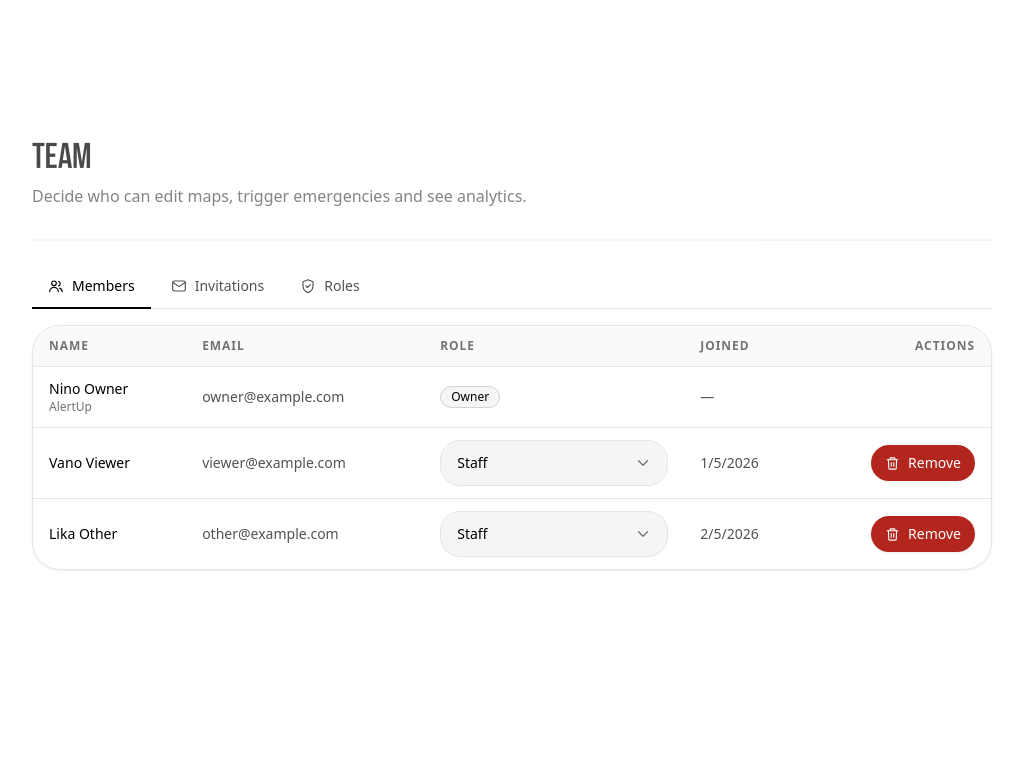
Test: Members page — custom roles › shows a friendly message instead of the raw anti-escalation 403
The width and height of the screenshot is (1024, 768).
Click the tab "Roles": (330, 287) top-left (284, 265), bottom-right (376, 309)
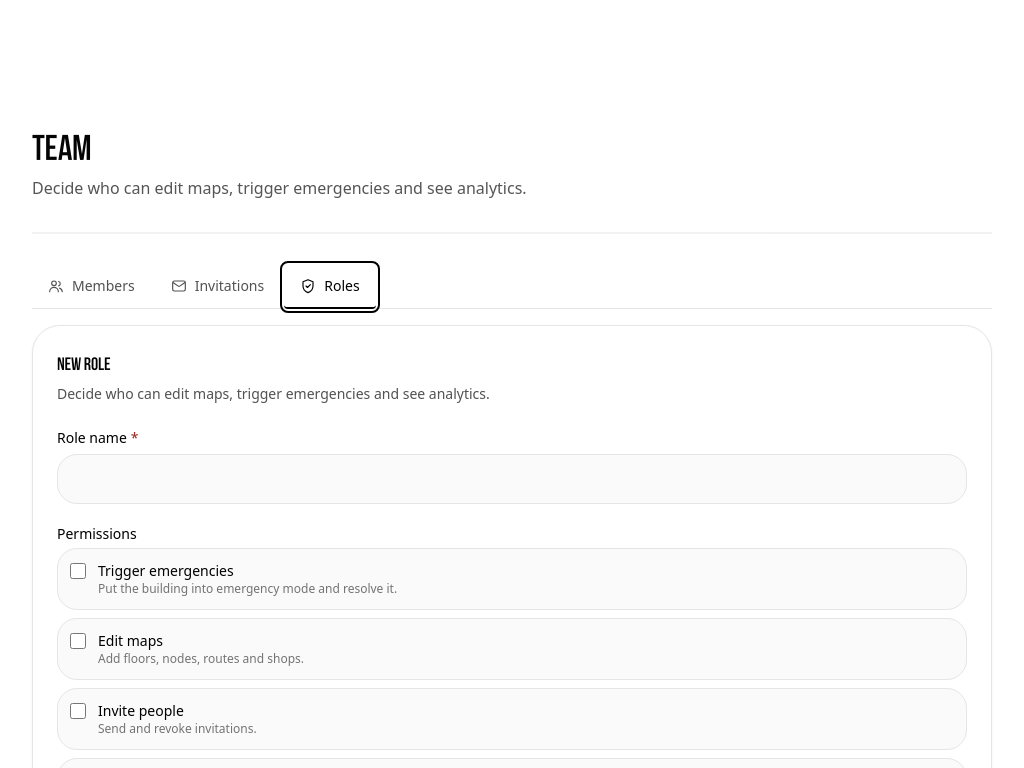
In the field labelled "Role name": (512, 479) top-left (57, 454), bottom-right (967, 504), type "Deputy"
(page scrolled)
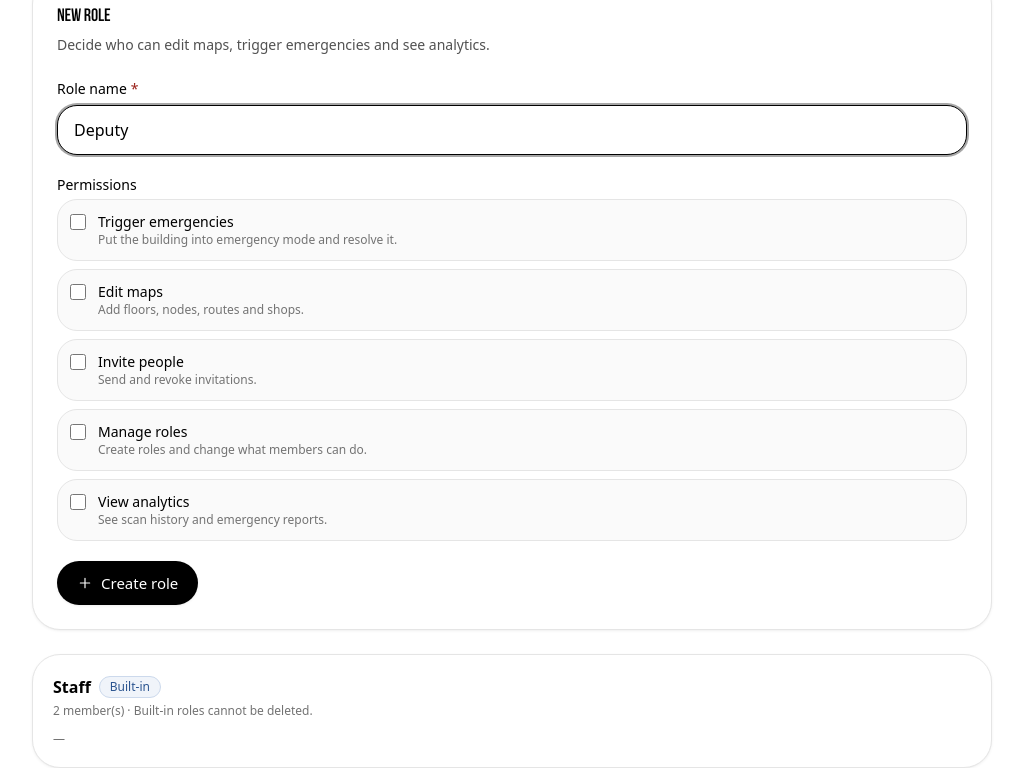
Click the checkbox labelled "Manage roles Create roles and change what members can do.": (78, 432) top-left (70, 424), bottom-right (86, 440)
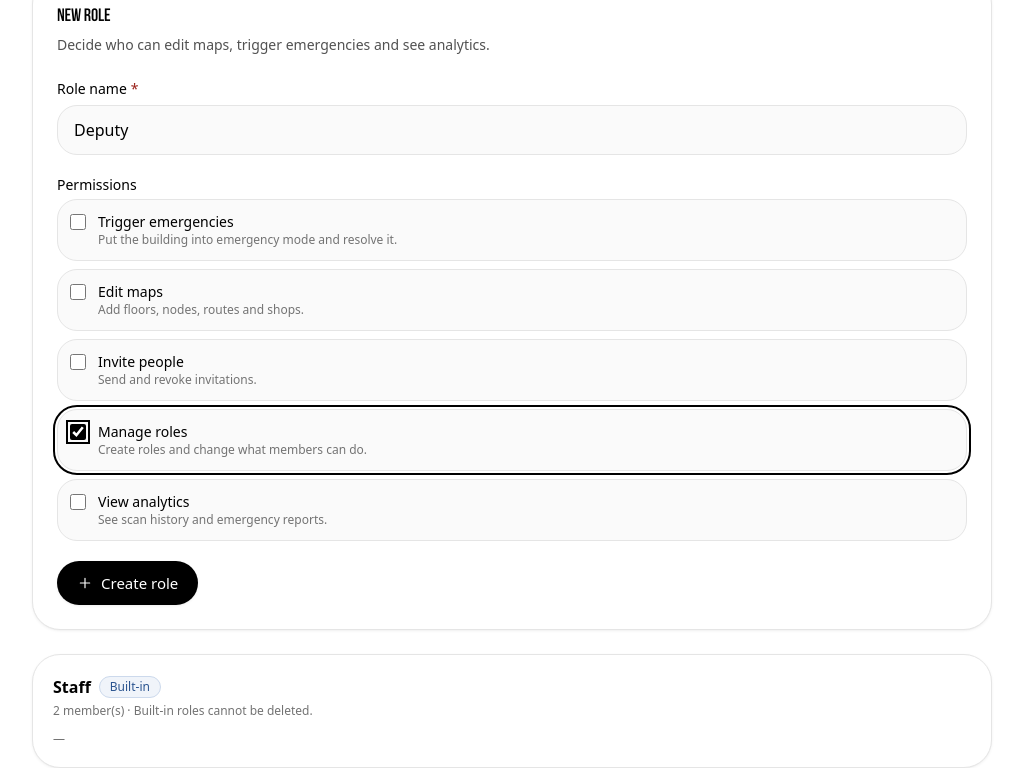
Click the button "Create role": (128, 583) top-left (57, 561), bottom-right (198, 605)
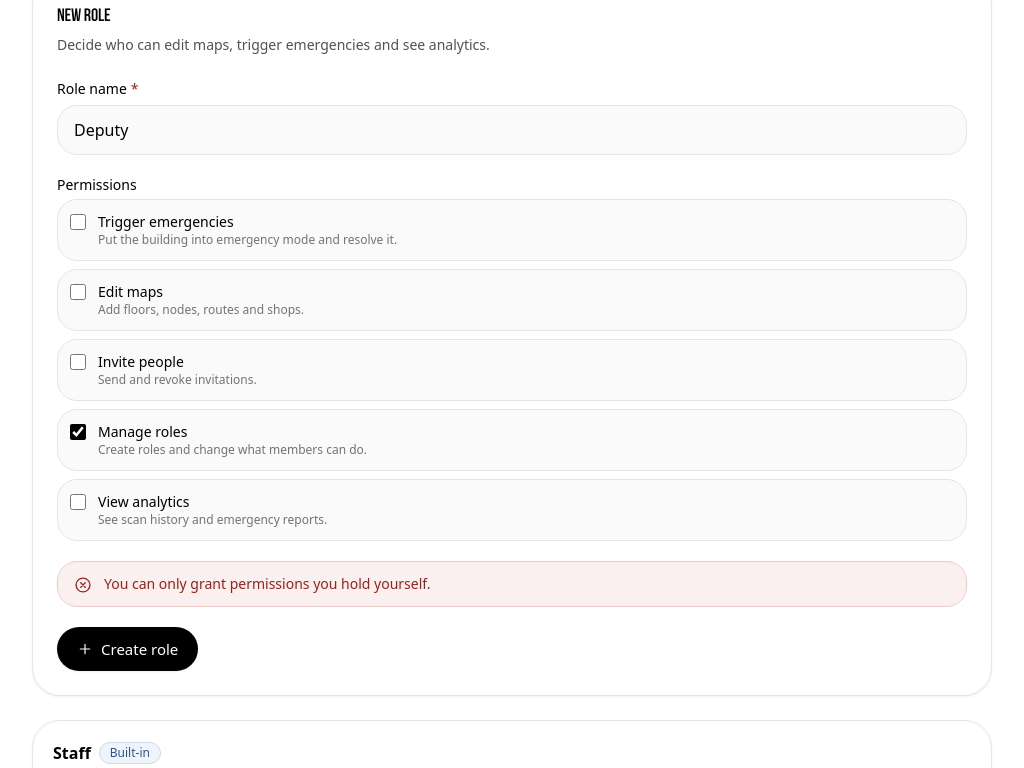
expect the text "You can only grant permissions you hold yourself." is shown: met, box top-left (104, 574), bottom-right (431, 593)
